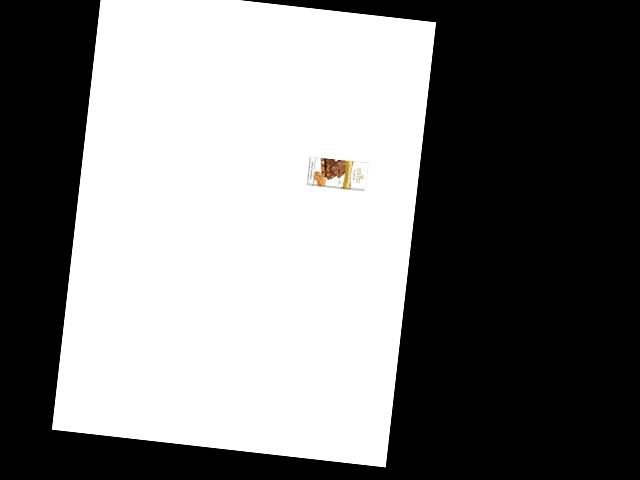chocolate: (304, 155, 370, 193)
